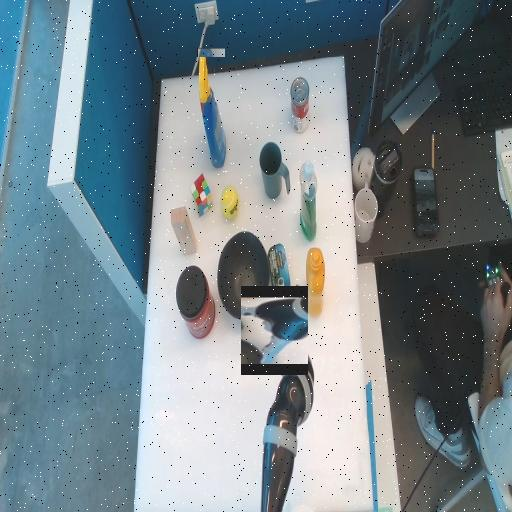bowl: (218, 233, 268, 318)
cleanser: (299, 193, 316, 209)
coffee_can: (175, 284, 214, 322)
jaco: (241, 297, 308, 364)
meat_can: (267, 261, 289, 283)
mug: (259, 143, 289, 199)
mustard_bottle: (305, 249, 324, 317)
rubik: (190, 174, 212, 217)
soup_can: (291, 78, 308, 133)
tennis_ball: (221, 188, 238, 218)
windex: (198, 49, 225, 167)
wooden_block: (170, 219, 195, 244)
workspace: (135, 57, 372, 509)
